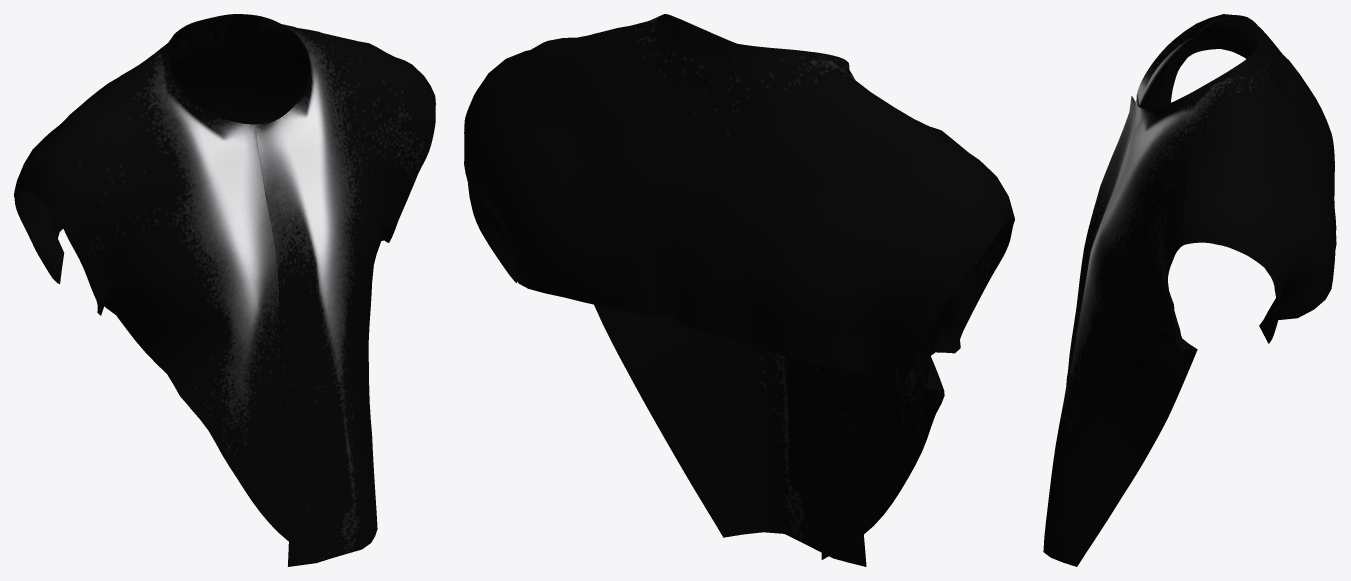
The model's file is chenshanyishen.FBX.
3 views of the same model, side by side, from view 1: azimuth 30°, elevation 25°; view 2: azimuth 150°, elevation 25°; view 3: azimuth 270°, elevation 25° (orthographic). The views are drawn at different scales.
Visible parts, largest first — view 1: default015; view 2: default015; view 3: default015.
Boxes of the visible parts, <box> form: default015: <box>14,14,435,566</box>; default015: <box>464,14,1014,566</box>; default015: <box>1043,14,1336,566</box>.
Bounding box in the file's own units: 42.29 × 47.74 × 25.47.
